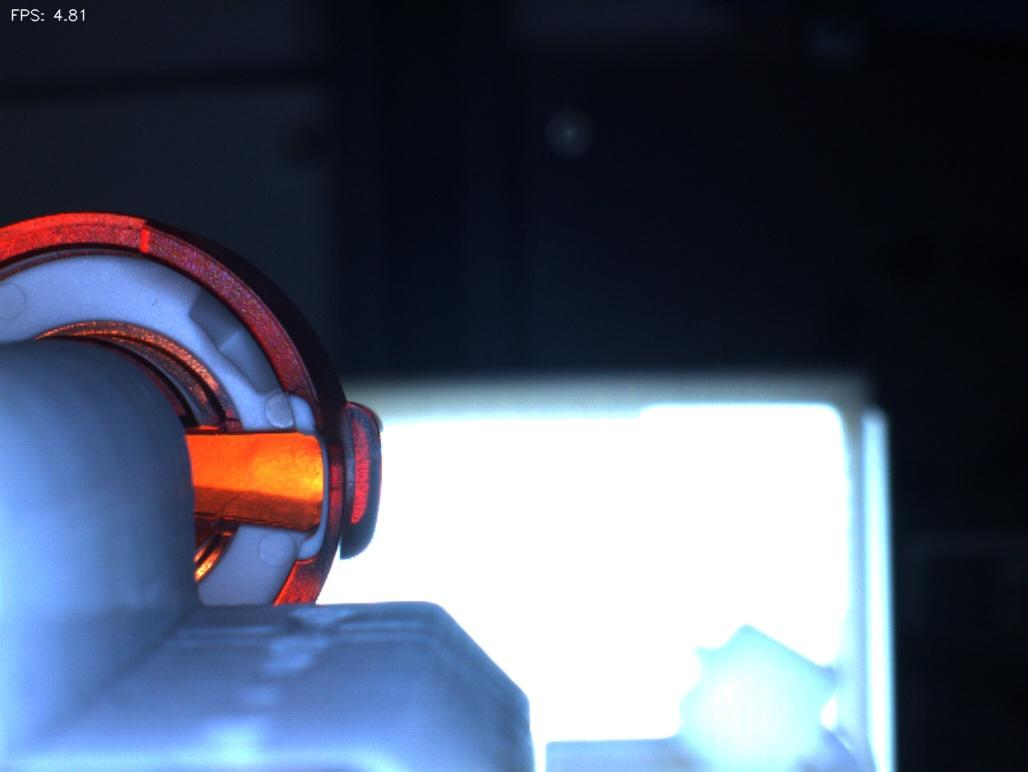Retassure: (228, 432, 335, 519)
